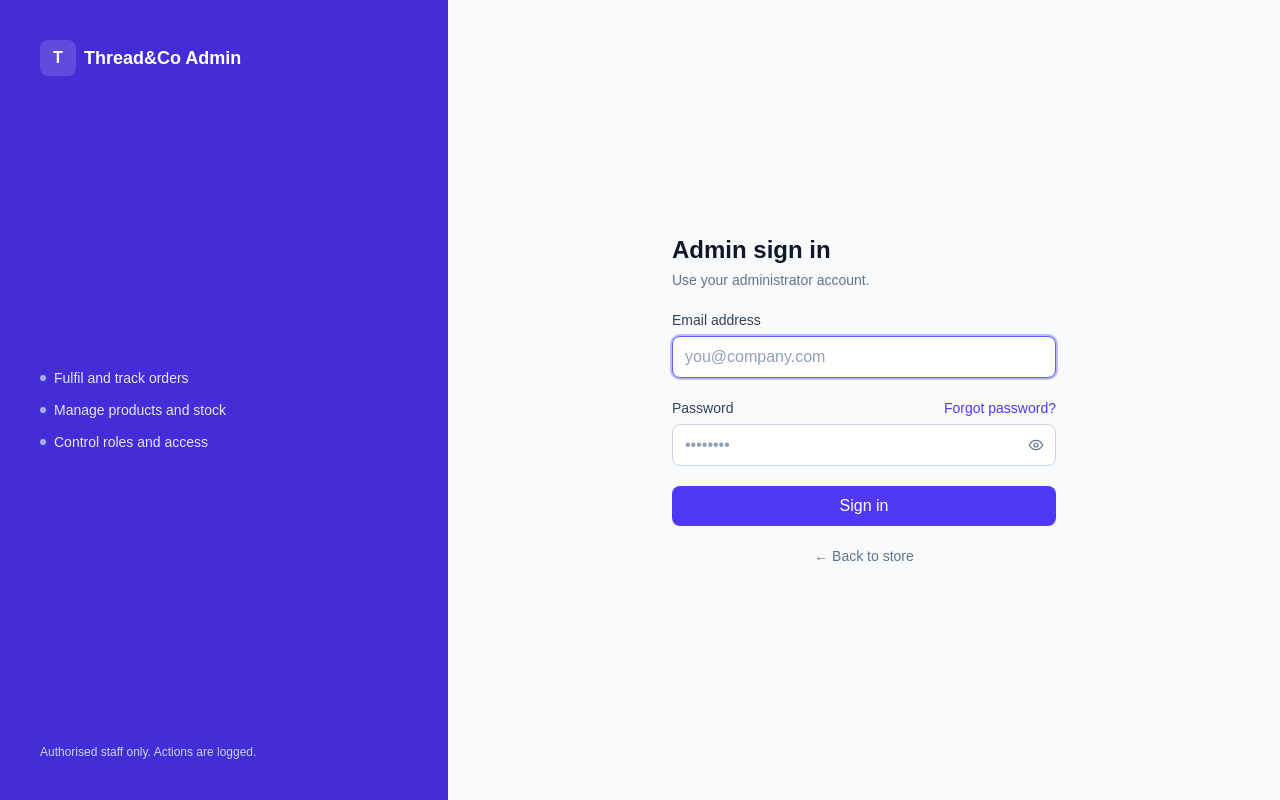
AdminLogin › renders a failed login as an alert
The width and height of the screenshot is (1280, 800).
Type "a@b.co" into the field labelled "Email address".
click(864, 357); type("a@b.co")  # box top-left (672, 336), bottom-right (1056, 378)
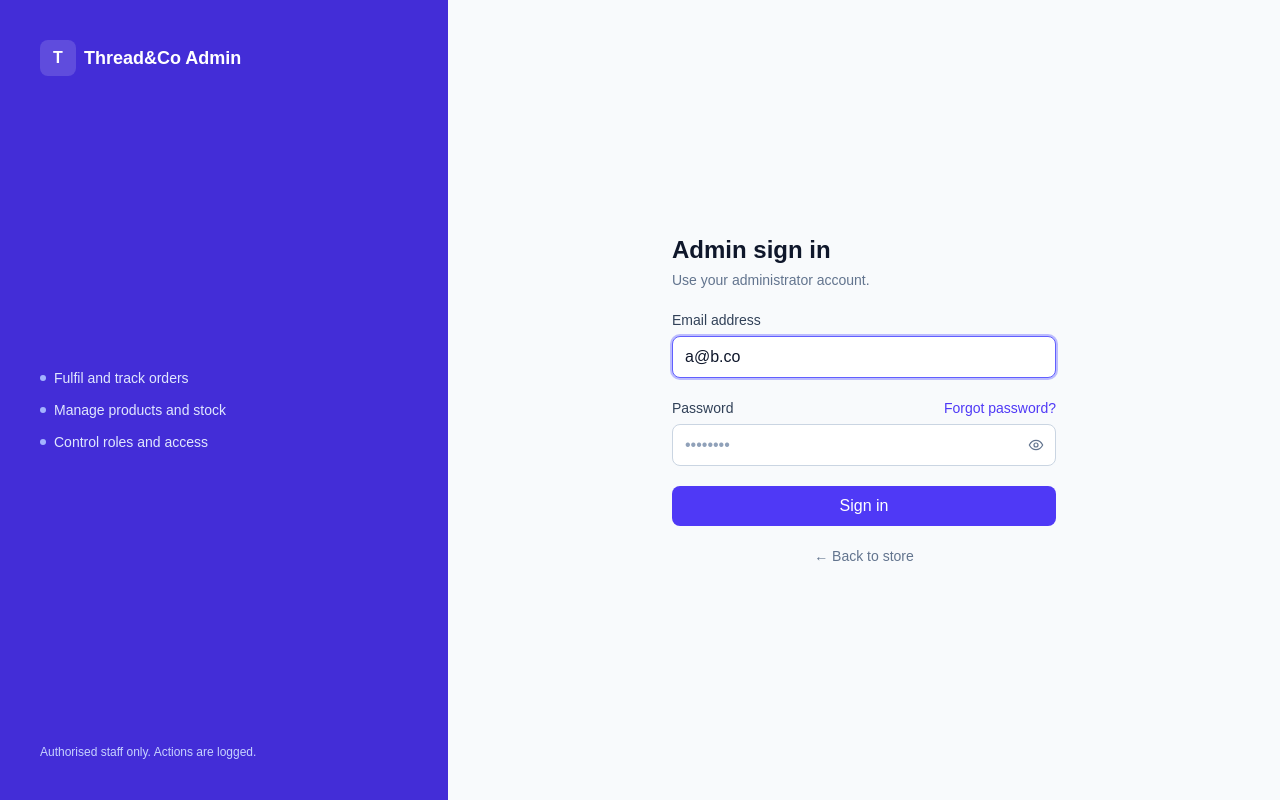
Type "pw" into the password field labelled "Password".
click(864, 445); type("pw")  # box top-left (672, 424), bottom-right (1056, 466)
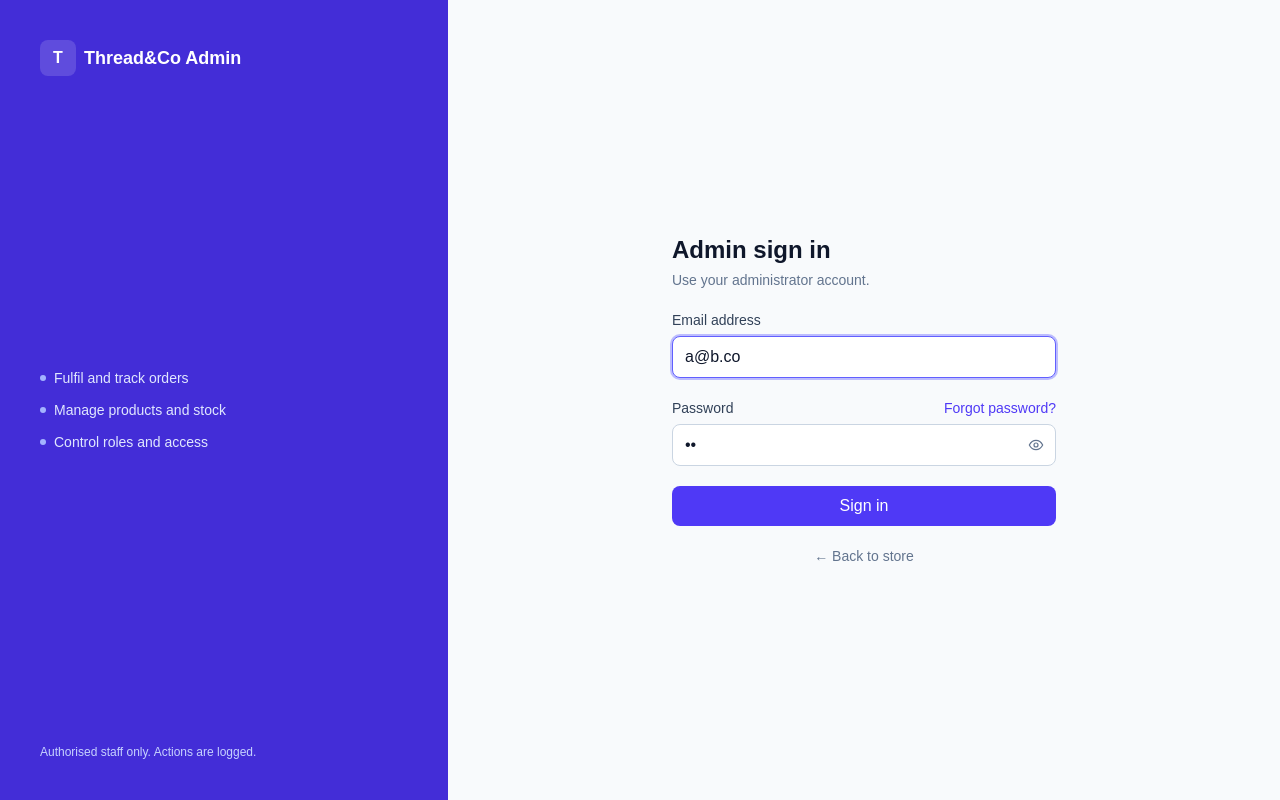
Click the button "Sign in".
click(864, 506)  # box top-left (672, 486), bottom-right (1056, 526)
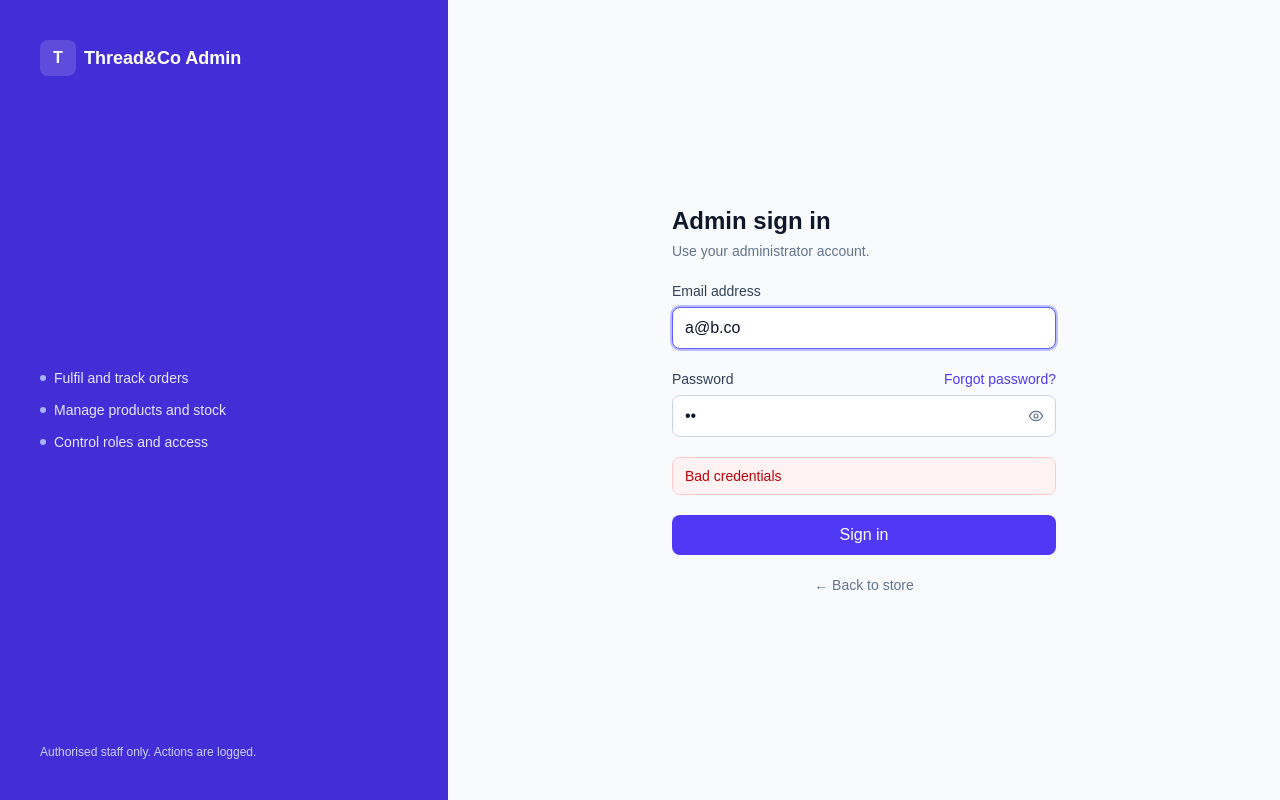
Now the message reads "Bad credentials", box top-left (685, 468), bottom-right (782, 484)
